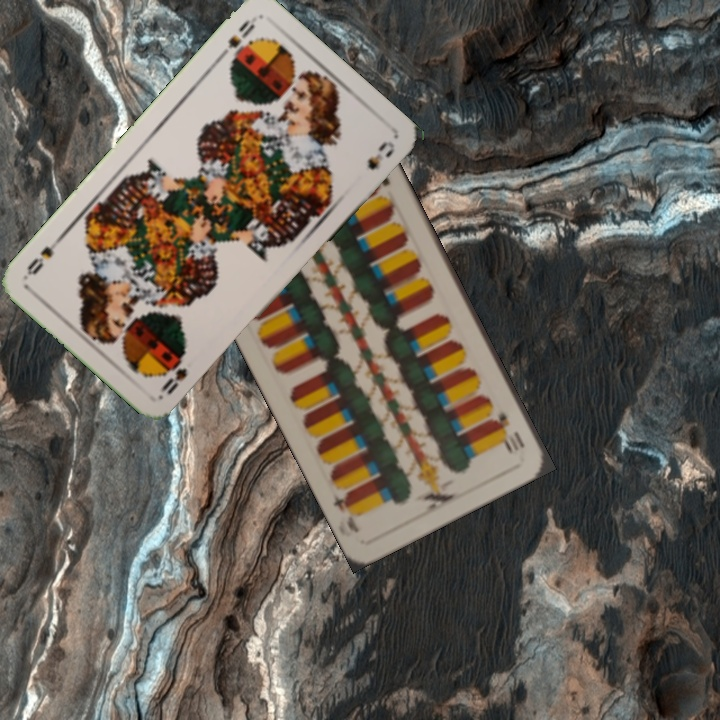E10: (492, 407, 528, 455)
SO: (214, 15, 258, 65), (157, 364, 190, 398)
